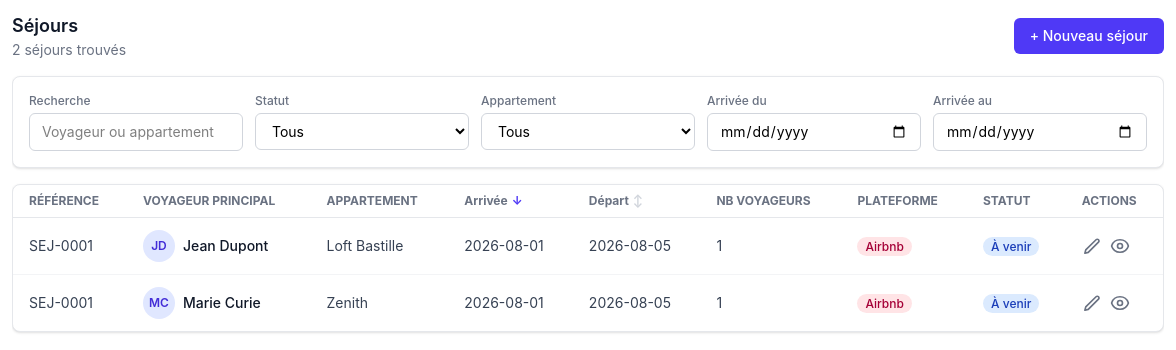
Scenario: SejoursListeSection › filtre par appartement
Expected: the text "2 séjours trouvés" is shown, [12, 40, 126, 60]
Select "Zenith" in the dropdown labelled "Appartement" at (588, 132), box [481, 113, 695, 150]
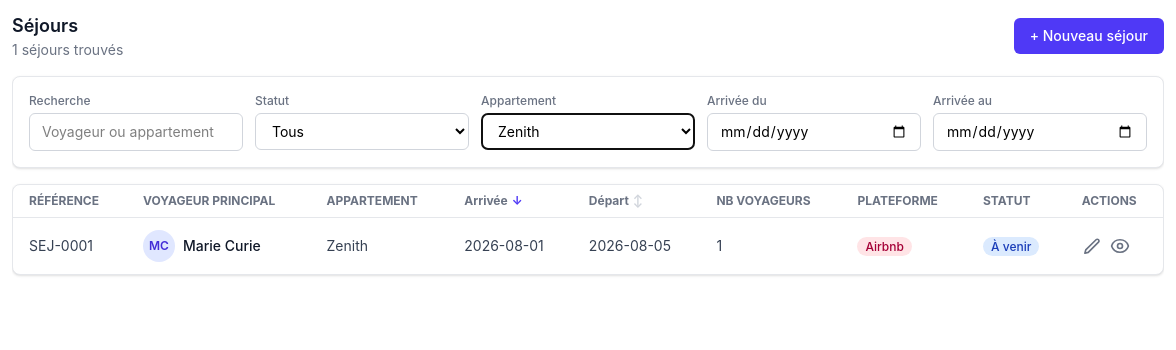
Expected: the text "Marie Curie" is shown, [183, 236, 261, 256]
Expected: the text "1 séjours trouvés" is shown, [12, 40, 123, 60]
